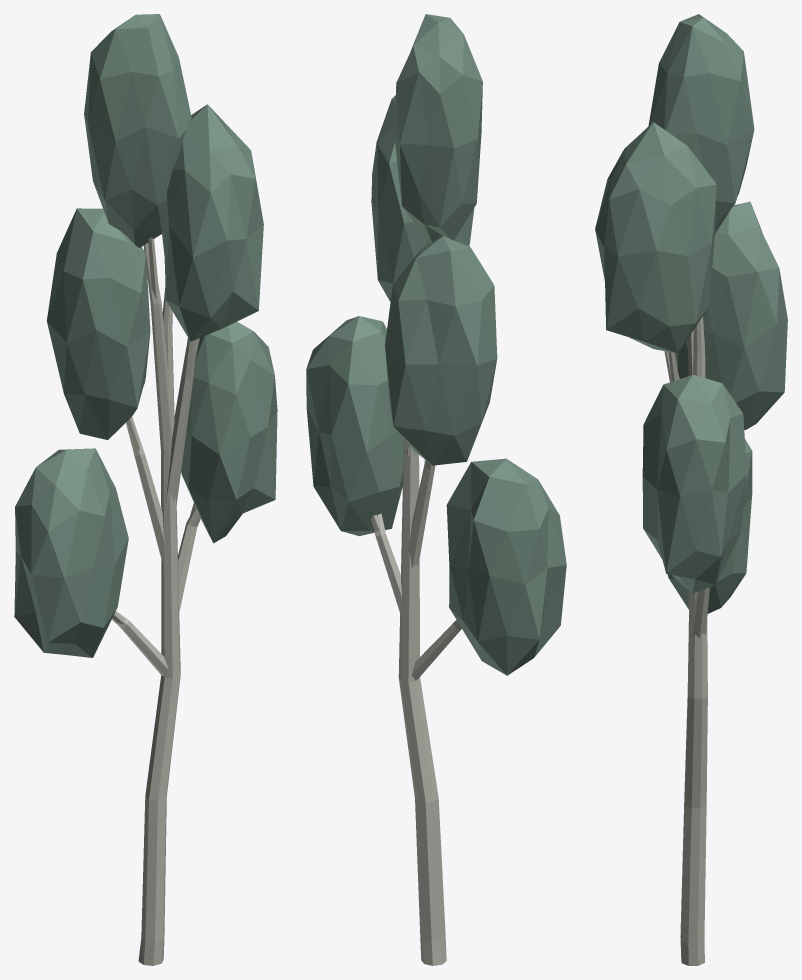
File: eucalyptus.fbx
3 renders of one model, left to right at view 1: azimuth 30°, elevation 25°; view 2: azimuth 150°, elevation 25°; view 3: azimuth 270°, elevation 25°, orthographic.
Visible parts, largest first — view 1: eucalyptus; view 2: eucalyptus; view 3: eucalyptus.
Part boxes in pixels (x1,y1,x2,y2): eucalyptus: (14,14,277,965); eucalyptus: (306,14,566,965); eucalyptus: (595,14,787,965).
Size of the model in its own units: 6 by 22 by 4.1.
